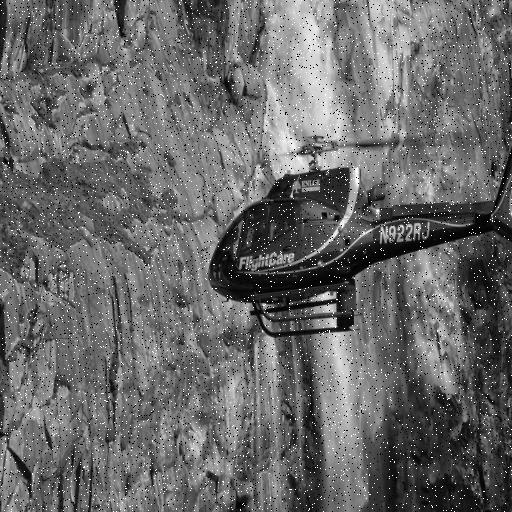helicopter: (204, 62, 512, 358)
